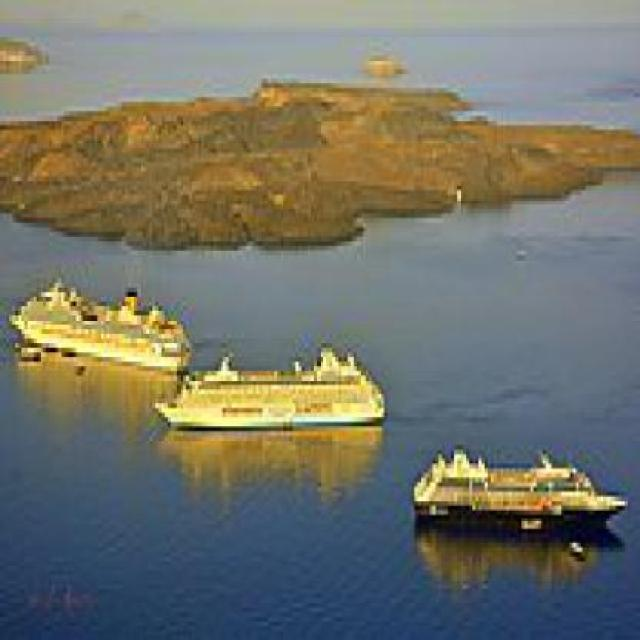cruise: (397, 427, 639, 567), (150, 334, 410, 456), (14, 251, 191, 373)
